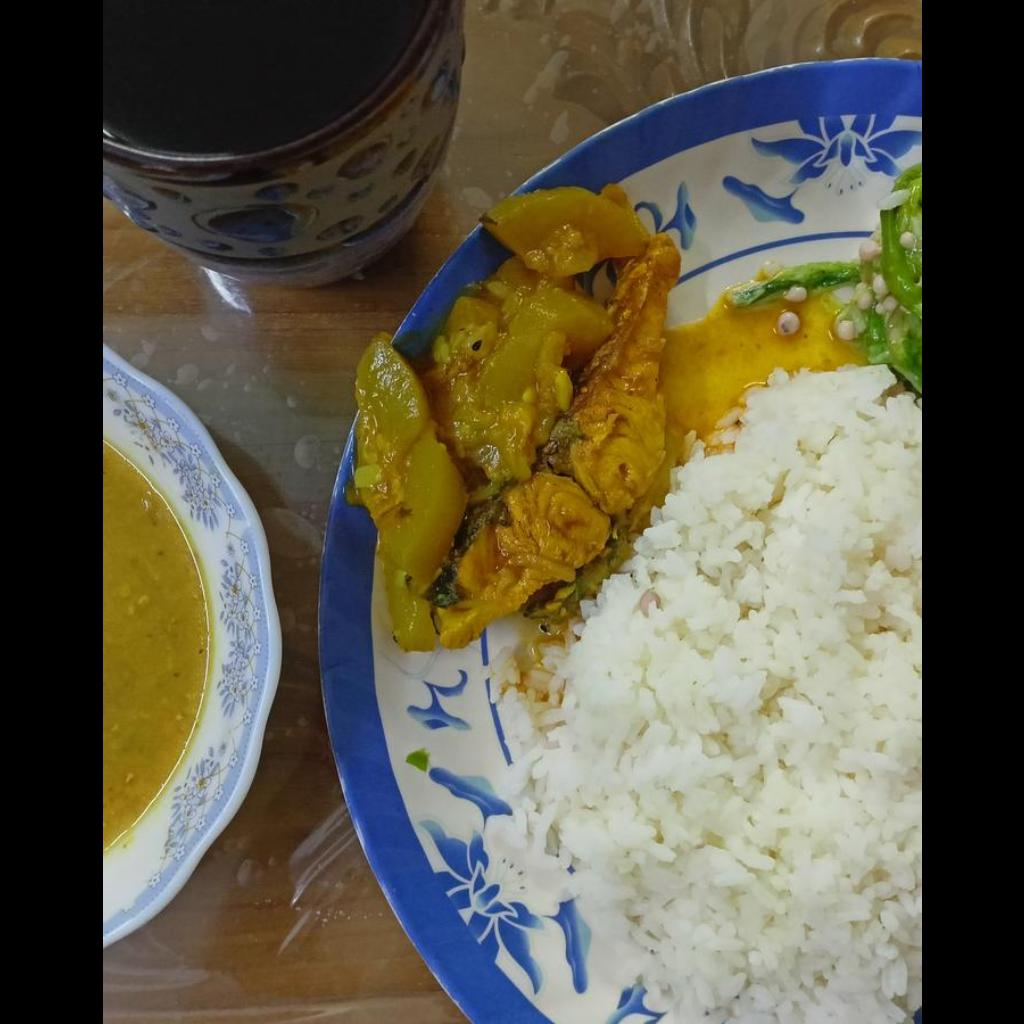daal: (102, 453, 206, 852)
lau: (349, 185, 758, 651)
rice: (502, 367, 919, 1018)
